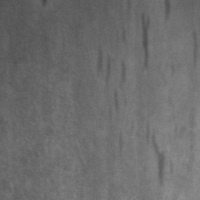inclusion: (91, 44, 131, 115), (141, 119, 172, 187), (134, 8, 158, 75), (163, 1, 175, 25)
